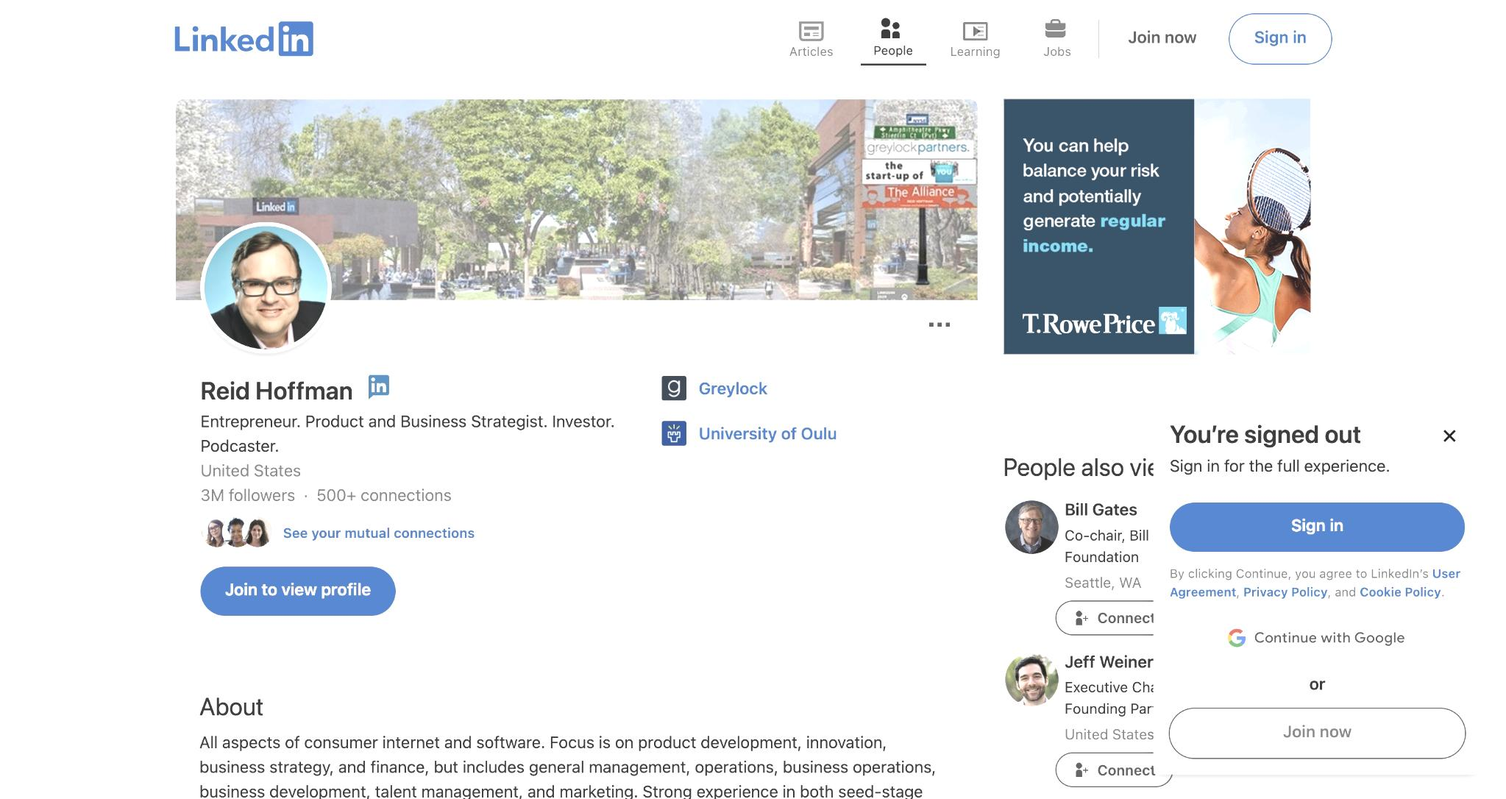webelement: (174, 81, 1331, 799), (176, 98, 978, 299), (1153, 401, 1481, 773), (174, 0, 1331, 81), (199, 730, 954, 799), (1004, 497, 1332, 592), (1004, 650, 1332, 744), (200, 221, 331, 352), (1169, 502, 1464, 550), (1169, 708, 1464, 756), (1065, 523, 1331, 566), (1065, 676, 1331, 719), (657, 416, 952, 449), (657, 372, 952, 404), (200, 567, 394, 615), (1169, 565, 1460, 597), (281, 515, 475, 550), (1103, 14, 1221, 63), (1229, 14, 1330, 63), (174, 21, 313, 56), (1057, 600, 1172, 633), (1057, 753, 1172, 786), (777, 12, 843, 65), (941, 12, 1007, 65), (699, 420, 837, 445), (860, 12, 925, 65), (1024, 12, 1089, 65), (299, 484, 451, 503), (200, 460, 300, 479), (200, 484, 299, 503), (918, 304, 961, 345), (699, 376, 767, 400), (1243, 584, 1327, 598), (1359, 584, 1440, 598), (658, 416, 690, 449), (1432, 418, 1465, 450), (200, 515, 232, 547), (220, 515, 252, 547), (241, 515, 273, 547), (658, 372, 690, 404), (950, 43, 1000, 58), (789, 43, 832, 58), (927, 312, 952, 337), (365, 375, 390, 399), (798, 19, 822, 43), (962, 19, 986, 43), (873, 43, 913, 57), (1044, 43, 1071, 58), (1309, 671, 1325, 696), (880, 18, 899, 38), (1044, 19, 1064, 37), (1073, 608, 1089, 625), (1073, 761, 1089, 778), (1441, 427, 1457, 443)
